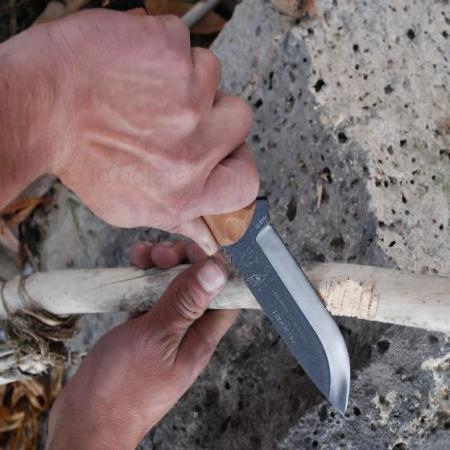long weapon: (194, 59, 362, 425)
